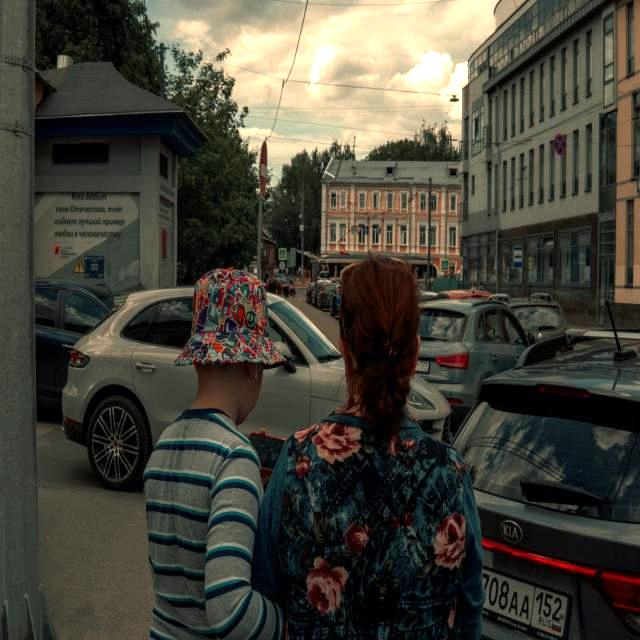no_hard_hat: (339, 253, 419, 440), (175, 269, 285, 365)
person: (252, 256, 484, 640), (143, 269, 286, 640)
